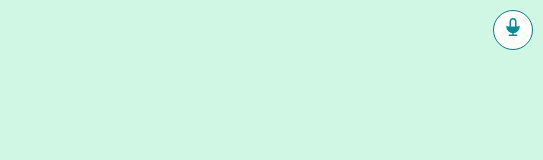
it: TranscriptUserIdea › shows a clear permission failure and keeps manual entry available
What coordinates should you click on to do the following:
click the button "Dictar idea"
I would click on:
 (513, 30)
Its box is x1=493 y1=10 x2=533 y2=50.
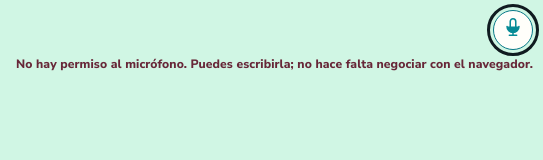
expect the message shows "permiso al micrófono": met, box x1=16 y1=56 x2=533 y2=72
